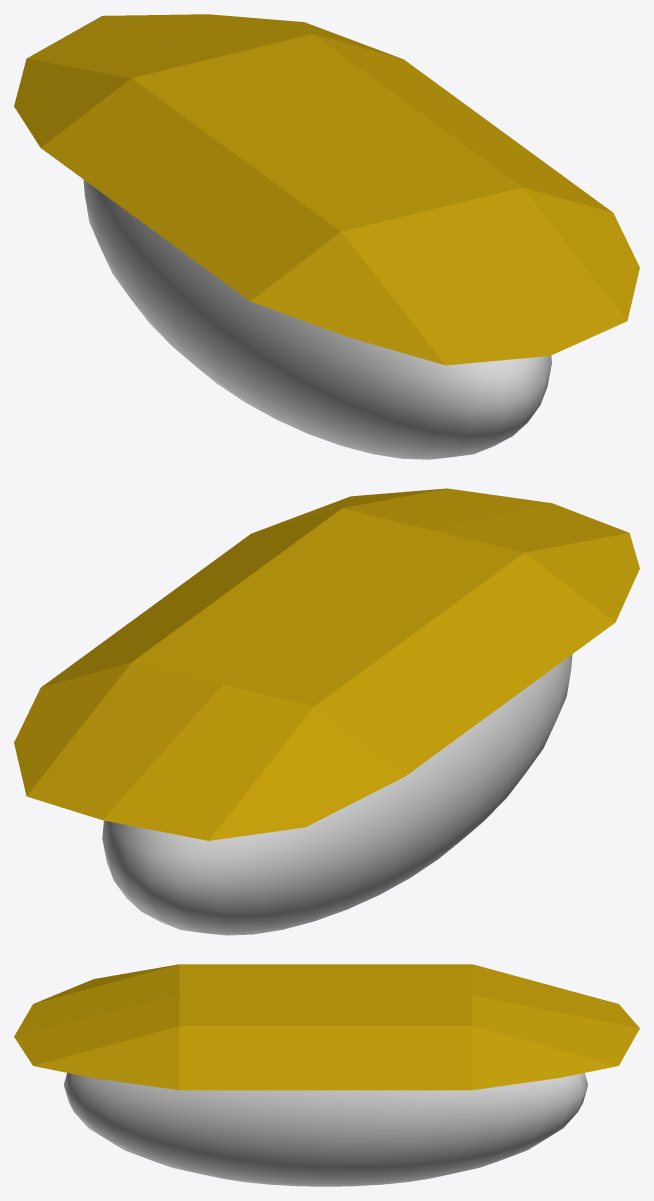
File: tamago.fbx
3 views of the same model, one above another, from view 1: azimuth 30°, elevation 25°; view 2: azimuth 150°, elevation 25°; view 3: azimuth 270°, elevation 25° (orthographic). The views are drawn at different scales.
Parts seen in each view (by area): view 1: 平面, 球; view 2: 平面, 球; view 3: 平面, 球.
Boxes of the visible parts, x1,y1,x2,y2 form: 平面: (14, 14, 639, 365); 球: (83, 179, 551, 459); 平面: (14, 488, 639, 840); 球: (102, 654, 572, 935); 平面: (14, 964, 639, 1090); 球: (64, 1073, 587, 1186).
Size of the model in its own units: 200 by 138 by 427.
